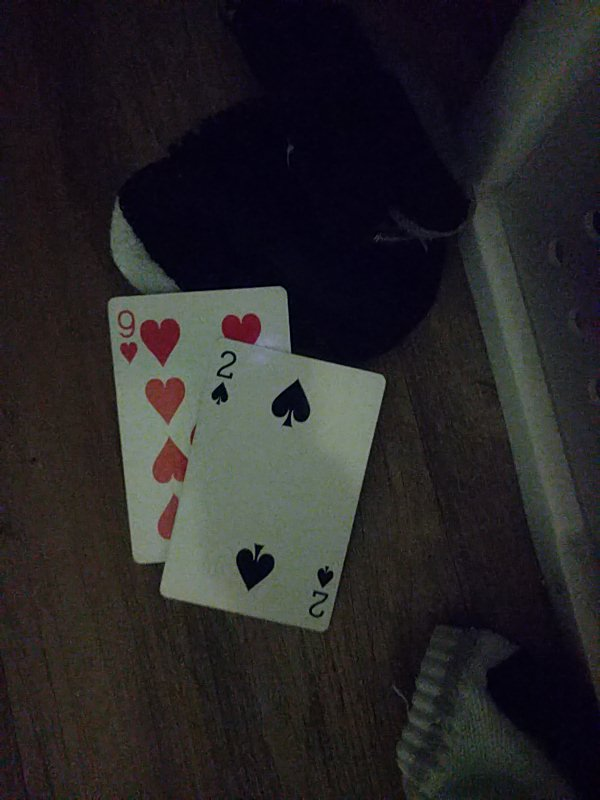Hearts: (105, 285, 293, 563)
Spades: (160, 335, 388, 636)
